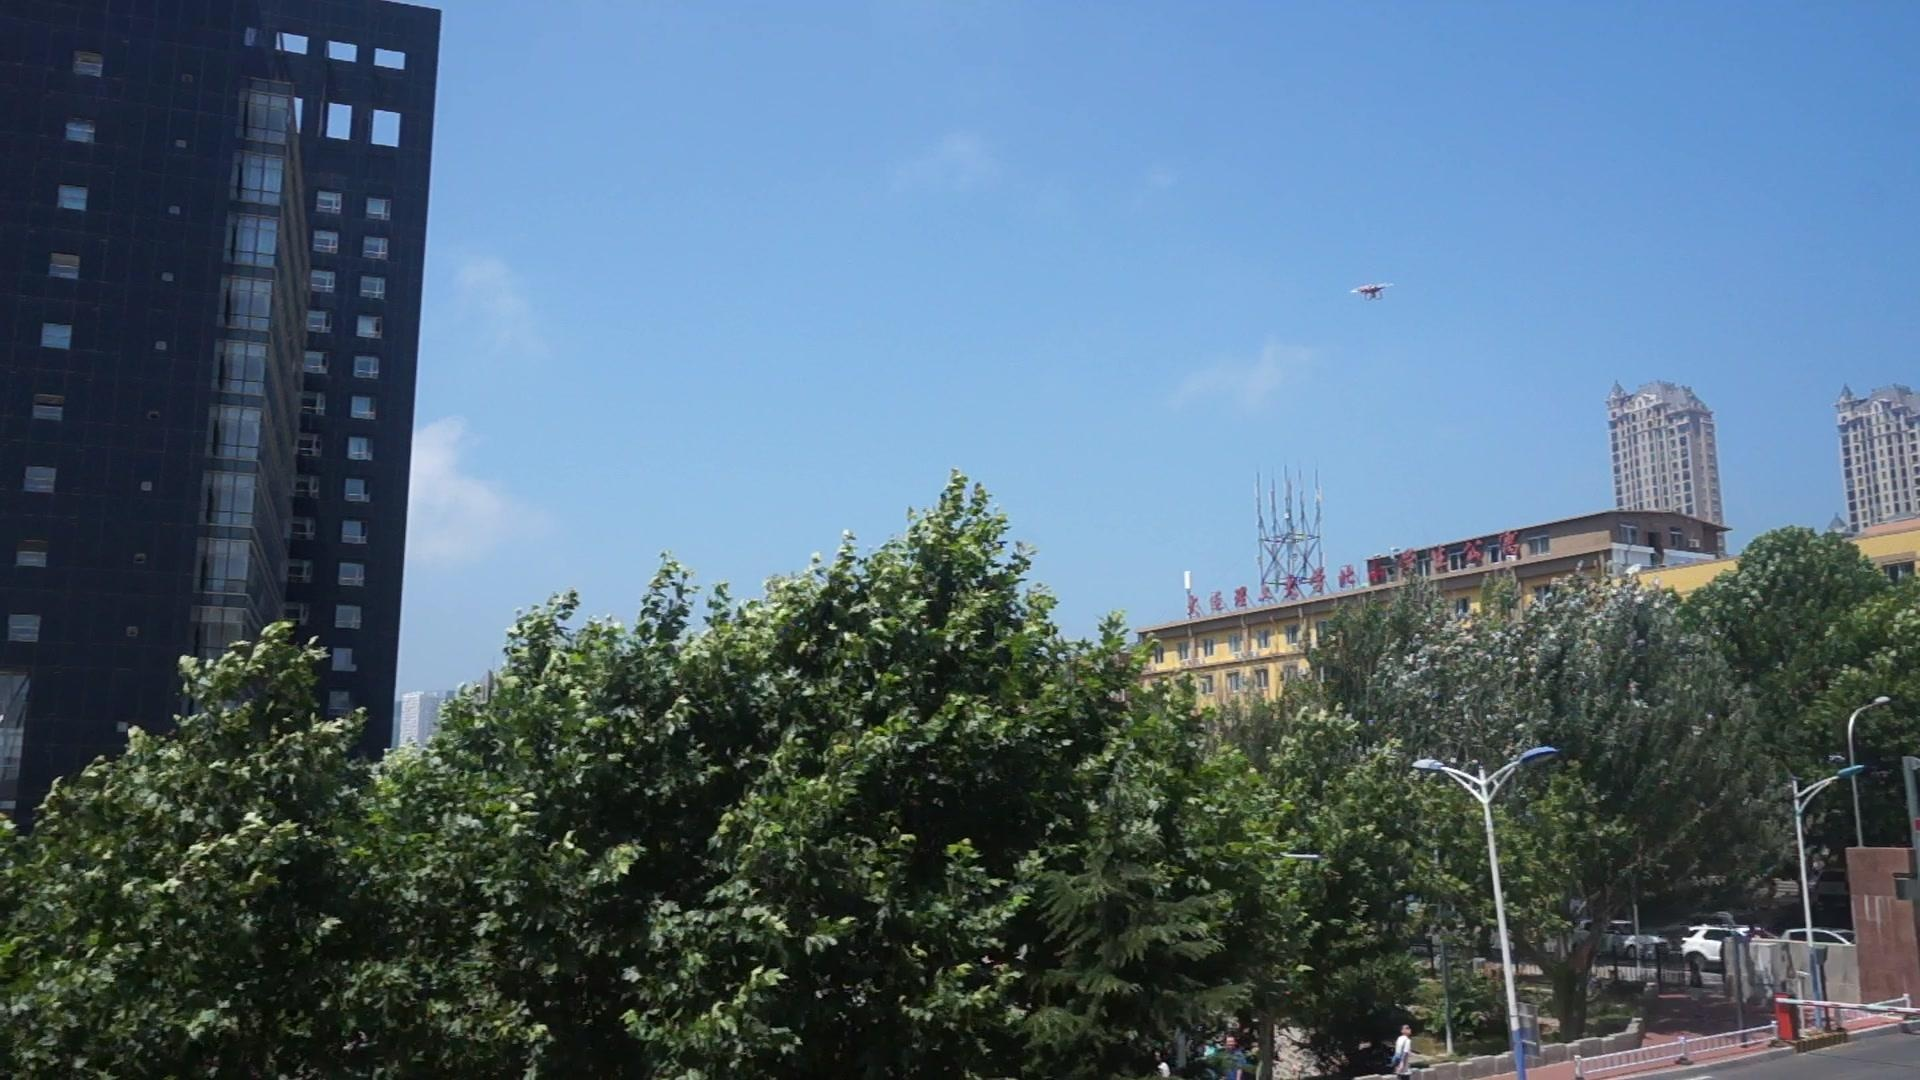UAV: (1352, 282, 1394, 301)
